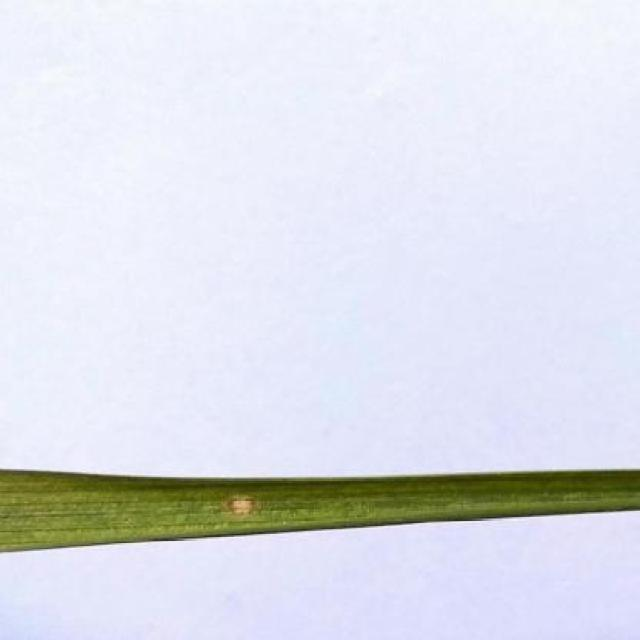Bacterial_Leaf_Blight: (220, 492, 262, 520)
